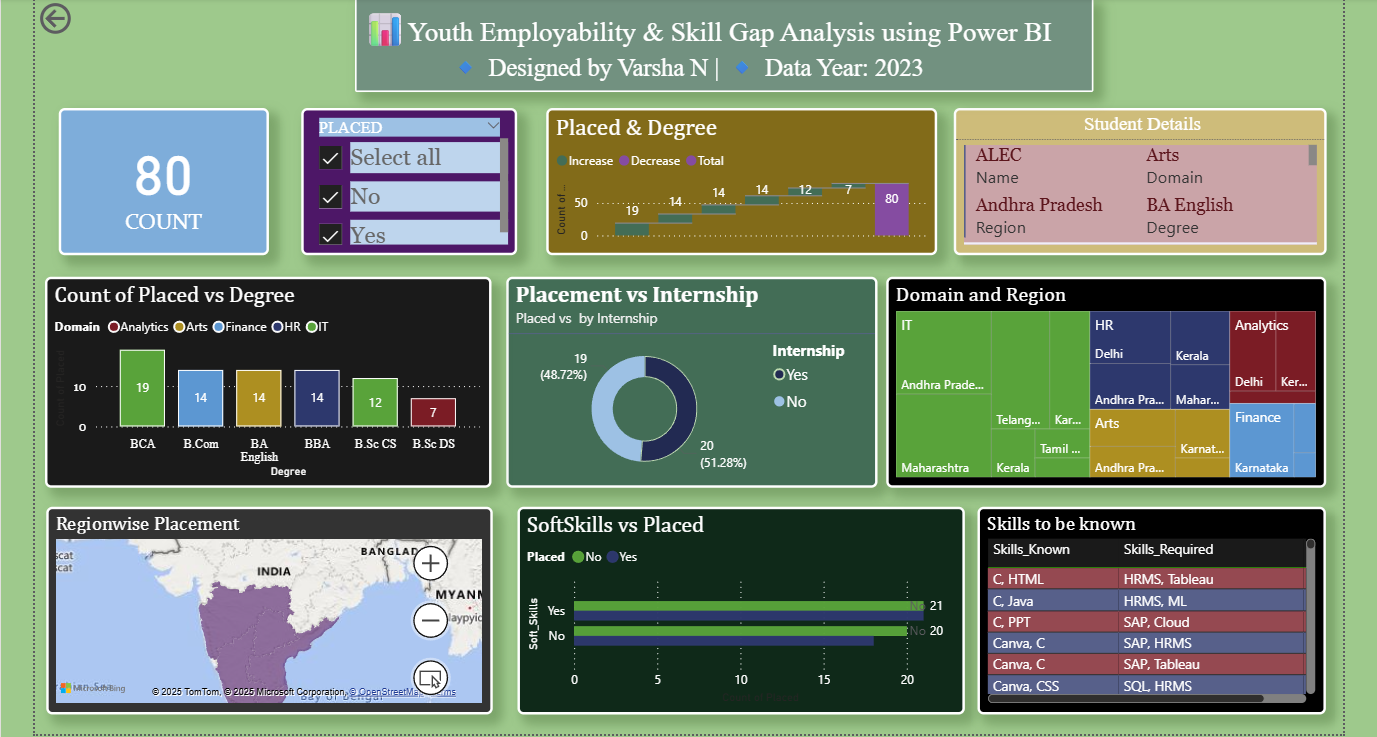

The page's visual inventory and layout, read from the dashboard file:
{"tool":"powerbi","page":{"name":"Page 1","canvas":[1280,720],"ordinal":0},"visuals":[{"type":"card","fields":{"Values":["datas_powerbi.ID"]},"box":[23.2,107.6,205.4,144.3],"z":0},{"type":"slicer","fields":{"Values":["datas_powerbi.Placed"]},"box":[260.5,107.6,211.6,144.3],"z":1000},{"type":"donutChart","title":"Placement vs   Internship ","fields":{"Category":["datas_powerbi.Internship"],"Y":["datas_powerbi.Placed_Count"]},"box":[461,272.7,363.2,206.7],"z":2000},{"type":"columnChart","title":"Count of Placed vs Degree ","fields":{"Category":["datas_powerbi.Degree"],"Y":["datas_powerbi.Placed"],"Series":["datas_powerbi.Domain"]},"box":[9.8,272.7,436.6,206.7],"z":3000},{"type":"clusteredBarChart","title":" SoftSkills vs Placed","fields":{"Category":["datas_powerbi.Soft_Skills"],"Series":["datas_powerbi.Placed"],"Y":["datas_powerbi.Placed"]},"box":[472,497.7,437.8,203],"z":4000},{"type":"actionButton","box":[0,0,100,40],"z":5000},{"type":"filledMap","title":"  Regionwise Placement","fields":{"Category":["datas_powerbi.Region"]},"box":[11,497.7,436.6,203],"z":6000},{"type":"treemap","title":" Domain and Region","fields":{"Values":["datas_powerbi.Months_To_Job"],"Group":["datas_powerbi.Domain"],"Details":["datas_powerbi.Region"]},"box":[832.7,272.7,430.4,206.7],"z":7000},{"type":"multiRowCard","title":"Student Details","fields":{"Values":["datas_powerbi.Name","datas_powerbi.Domain","datas_powerbi.Region","datas_powerbi.Degree"]},"box":[898.8,107.6,364.4,144.3],"z":8000},{"type":"waterfallChart","title":"Placed & Degree","fields":{"Category":["datas_powerbi.Degree"],"Y":["datas_powerbi.Placed"]},"box":[500.1,107.6,382.7,144.3],"z":9000},{"type":"tableEx","title":"Skills to be known","fields":{"Values":["datas_powerbi.Skills_Known","datas_powerbi.Skills_Required","datas_powerbi.Placed"]},"box":[922,497.7,341.2,203],"z":10000},{"type":"textbox","box":[313,0,722.7,91.7],"z":11000}]}

Visuals, with their boxes in screenshot pixels (x1, y1, x2, y2):
card - datas_powerbi.ID: l=63, t=109, r=271, b=255
slicer - datas_powerbi.Placed: l=303, t=109, r=517, b=255
"Placement vs   Internship " donutChart: l=506, t=276, r=873, b=485
"Count of Placed vs Degree " columnChart: l=49, t=276, r=491, b=485
" SoftSkills vs Placed" clusteredBarChart: l=517, t=504, r=960, b=709
actionButton: l=39, t=0, r=141, b=40
"  Regionwise Placement" filledMap: l=51, t=504, r=492, b=709
" Domain and Region" treemap: l=882, t=276, r=1317, b=485
"Student Details" multiRowCard: l=949, t=109, r=1318, b=255
"Placed & Degree" waterfallChart: l=545, t=109, r=933, b=255
"Skills to be known" tableEx: l=972, t=504, r=1318, b=709
textbox: l=356, t=0, r=1087, b=93
